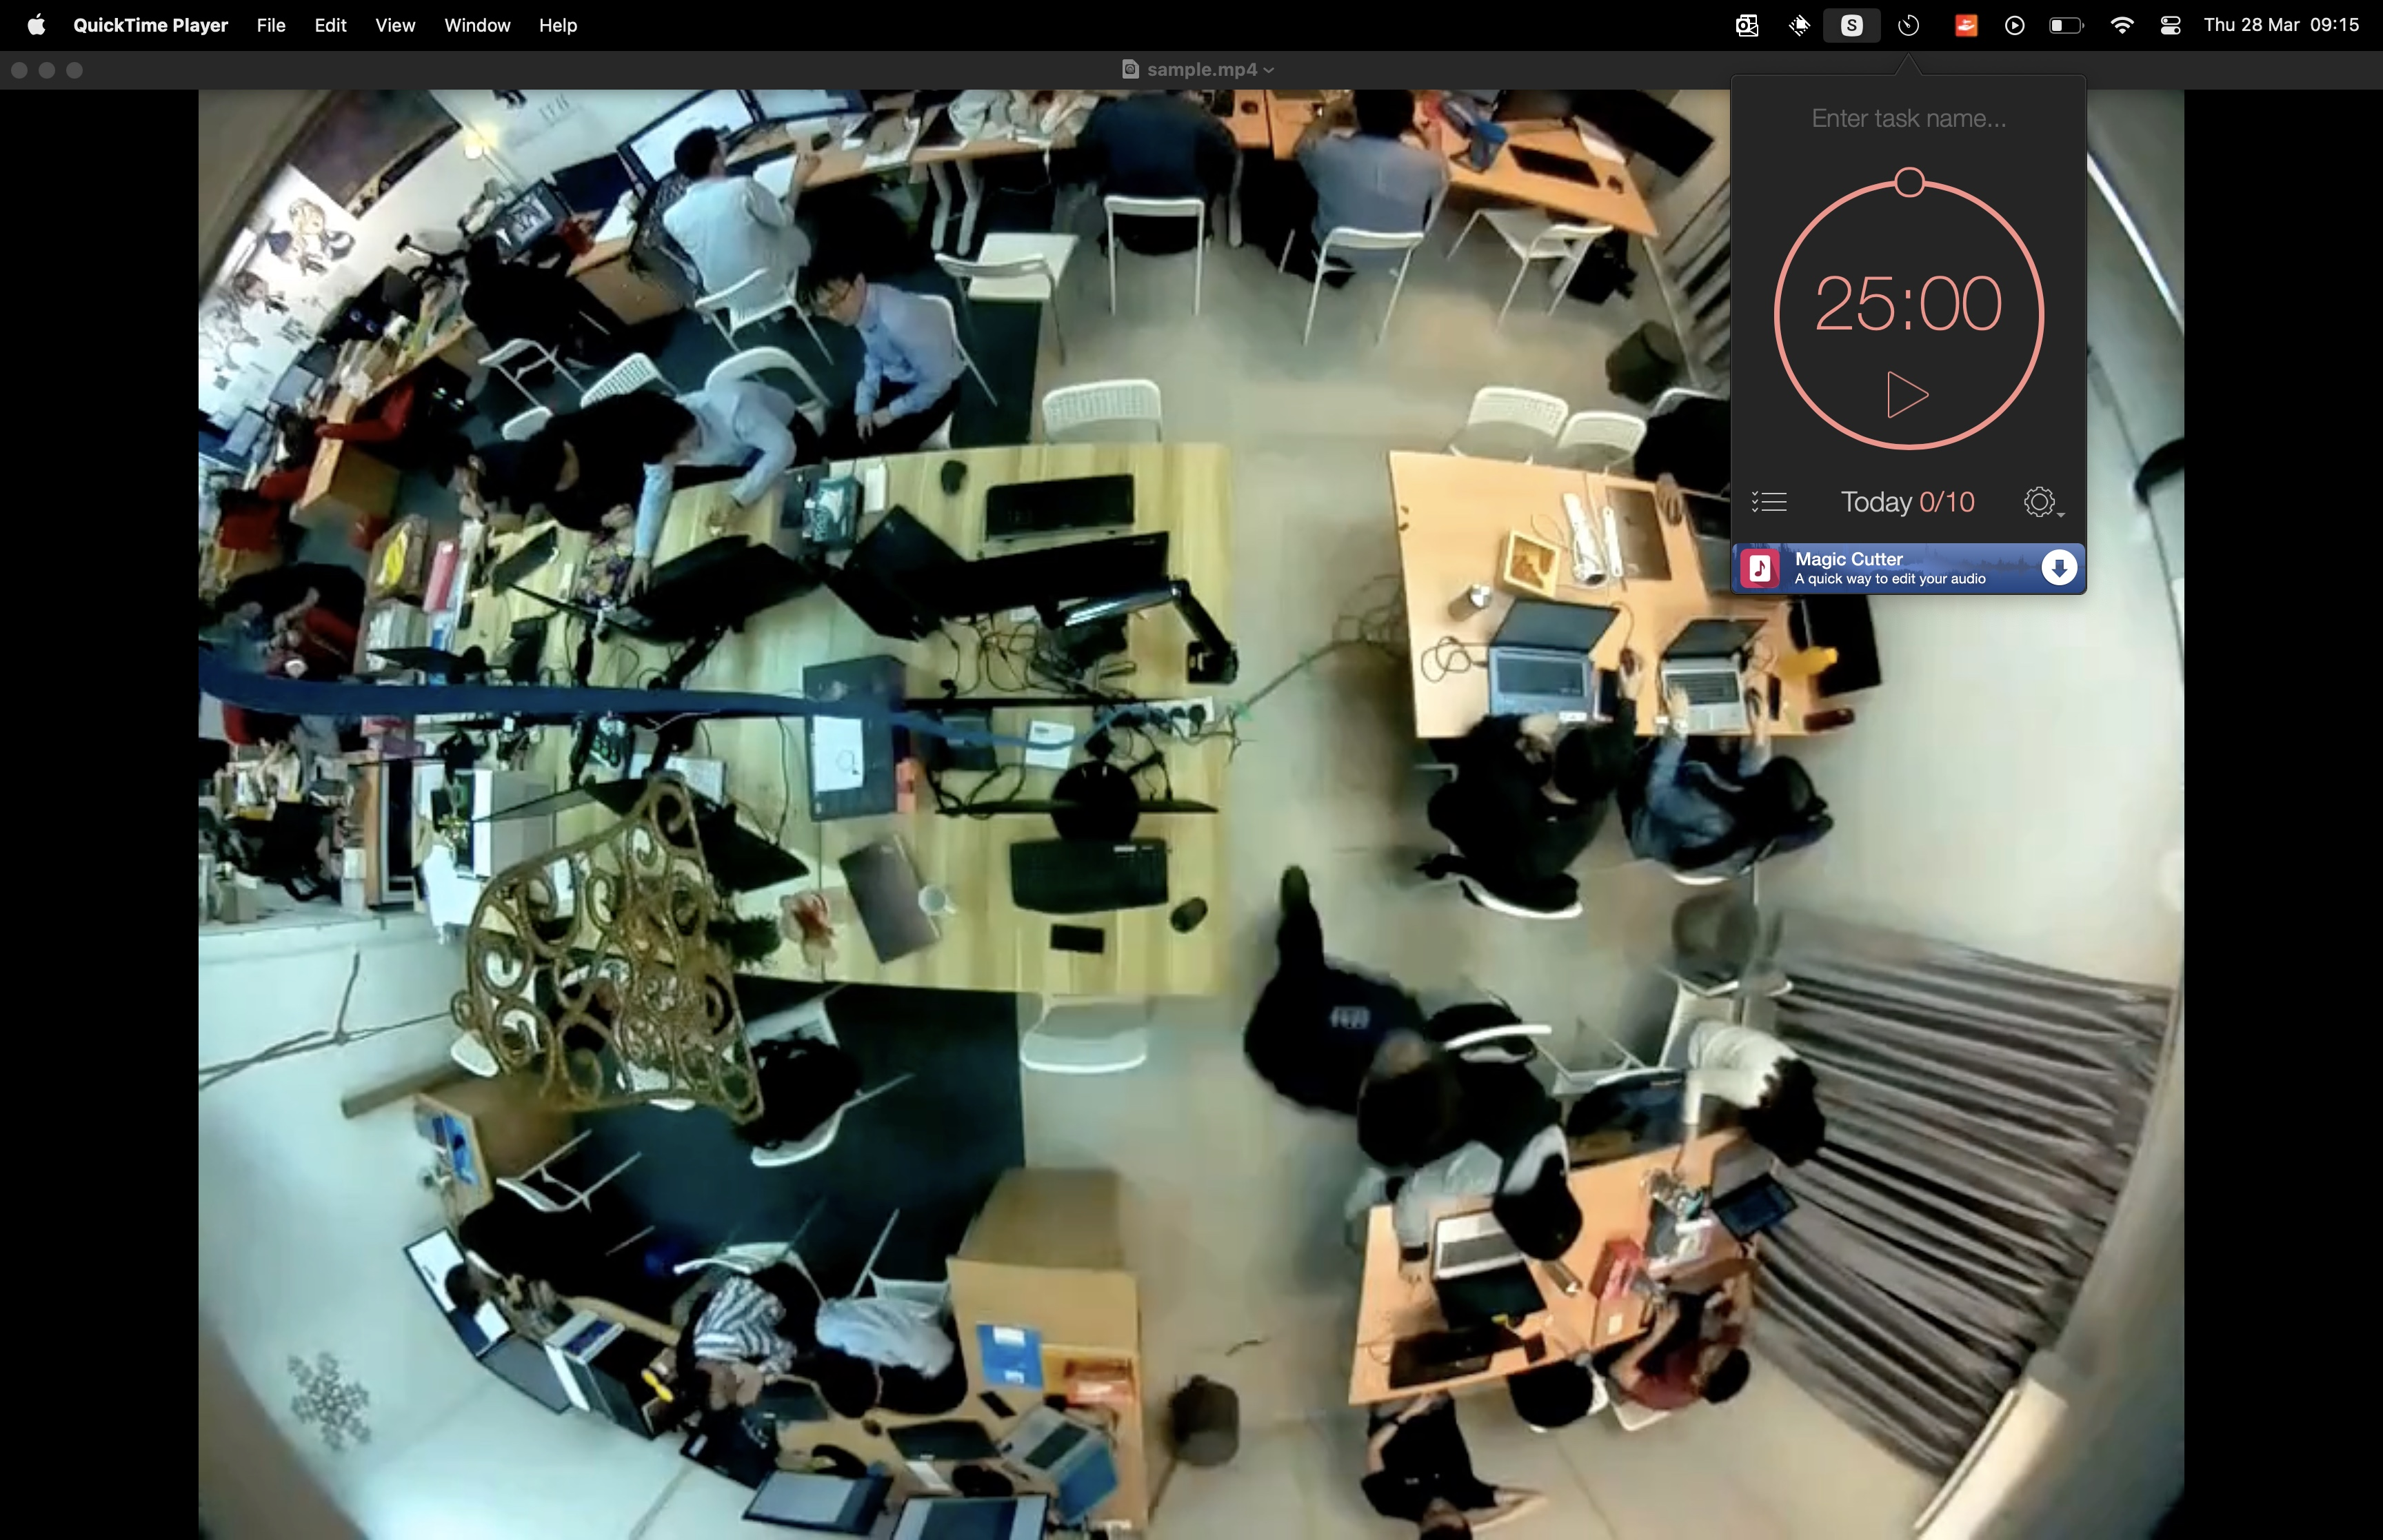Staff: (1233, 870, 1469, 1168)
